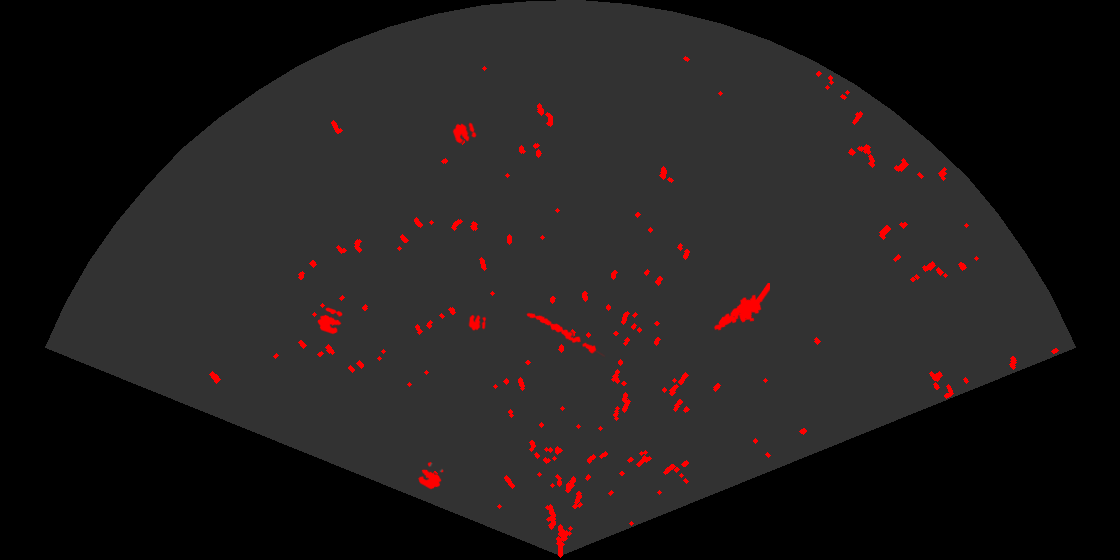ball: (416, 460, 445, 491), (316, 306, 344, 336), (451, 121, 478, 145), (467, 313, 488, 332)
chain: (525, 311, 605, 358)
frogman: (712, 283, 770, 332)
